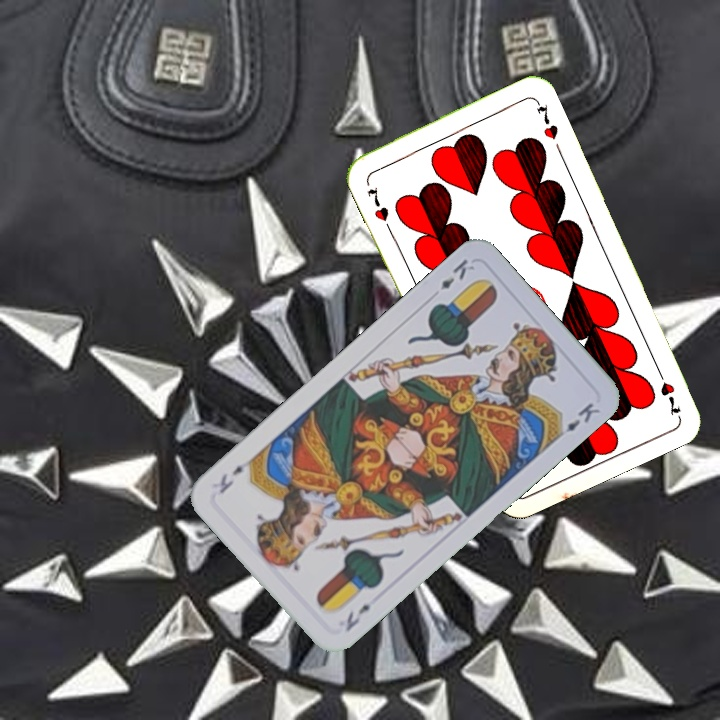EK: (436, 254, 478, 293), (341, 599, 374, 635)
H7: (652, 363, 684, 418), (363, 182, 393, 233)
